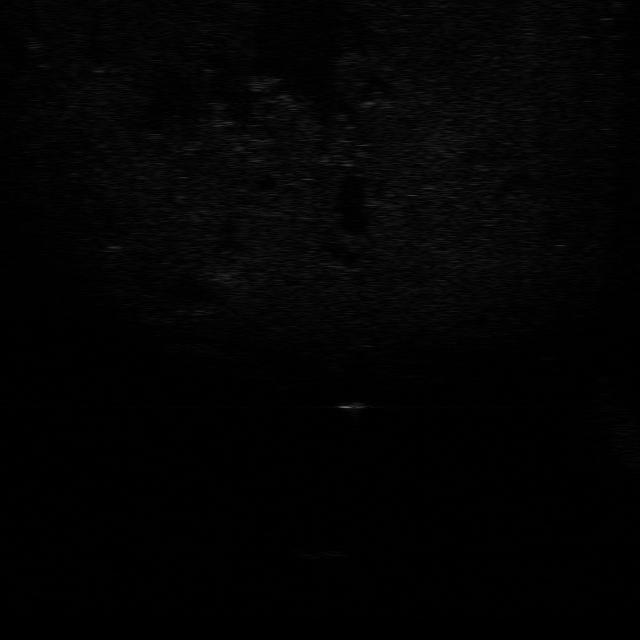square cage: (330, 395, 372, 413)
